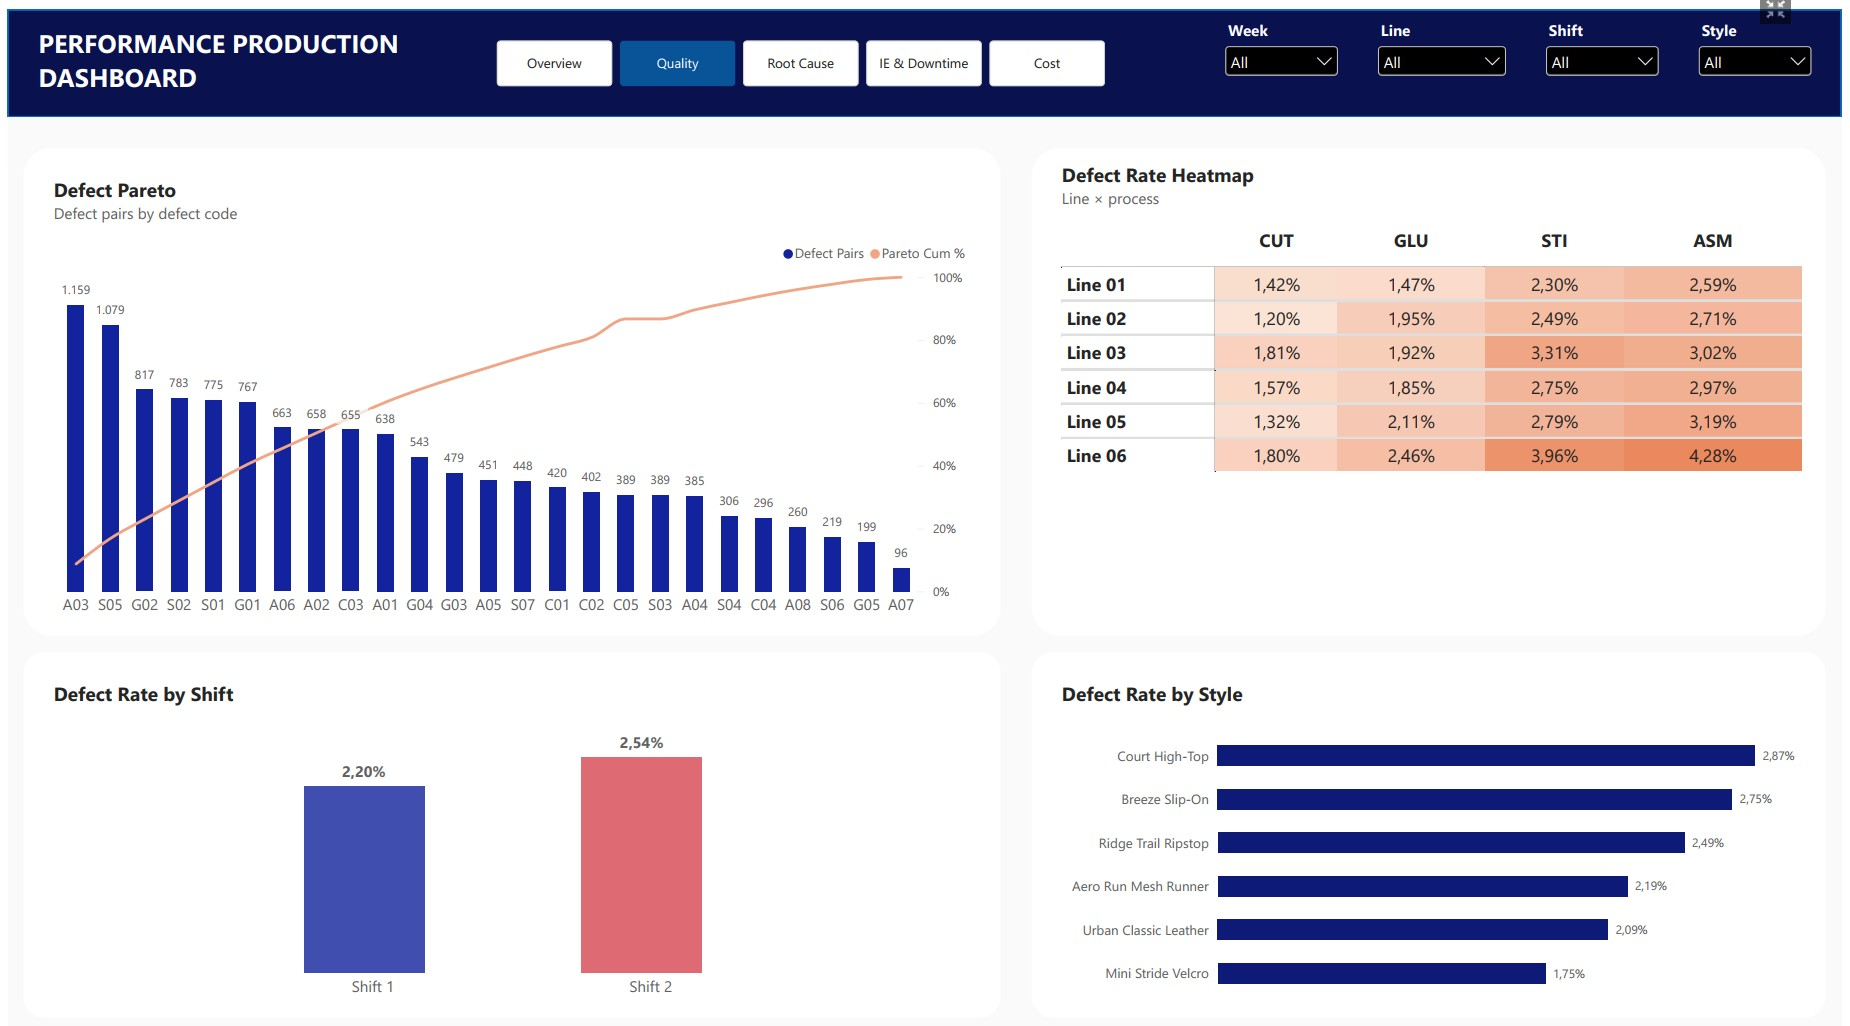

Layout of this report page (visuals, bound fields, positions):
{"tool":"powerbi","page":{"name":"Quality","canvas":[1920,1080],"ordinal":1},"visuals":[{"type":"shape","box":[0,0,1920,112],"z":0},{"type":"shape","box":[16,144,1024,512],"z":1000},{"type":"shape","box":[1072,144,832,512],"z":2000},{"type":"pivotTable","title":"Defect Rate Heatmap","fields":{"Columns":["Dim_Process.Process_ID"],"Rows":["Dim_Line.Line_Name"],"Values":["_Measures.Defect Rate"]},"box":[1088,144,816,400],"z":3000},{"type":"shape","box":[16,672,1024,384],"z":4000},{"type":"shape","box":[1072,672,832,384],"z":5000},{"type":"clusteredBarChart","title":"Defect Rate by Style","fields":{"Category":["Dim_Style.Style_Name"],"Y":["_Measures.Defect Rate"]},"box":[1088,688,800,368],"z":6000},{"type":"columnChart","title":"Defect Rate by Shift","fields":{"Category":["Fact_Production.Shift"],"Y":["_Measures.Defect Rate"]},"box":[32,688,992,368],"z":7000},{"type":"textbox","box":[32,16,480,80],"z":8000},{"type":"pageNavigator","box":[512,32,640,48],"z":9000},{"type":"slicer","fields":{"Values":["Dim_Calendar.ISO_Week"]},"box":[1270.4,9.6,128,80],"z":10000},{"type":"slicer","fields":{"Values":["Dim_Line.Line_Name"]},"box":[1430.4,9.6,144,80],"z":11000},{"type":"slicer","fields":{"Values":["Fact_Production.Shift"]},"box":[1606.4,9.6,128,80],"z":12000},{"type":"slicer","fields":{"Values":["Fact_Production.Style_ID"]},"box":[1766.4,9.6,128,80],"z":13000},{"type":"lineStackedColumnComboChart","title":"Defect Pareto","fields":{"Category":["Fact_Defects.Defect_Code"],"Y":["_Measures.Defect Pairs"],"Y2":["_Measures.Pareto Cum %"]},"box":[32,160,992,496],"z":14000}]}

Visuals, with their boxes in screenshot pixels (x1, y1, x2, y2), scaled from the page's 1920x1080 canvas onto the 1850x1026 screenshot:
shape: 0 0 1849 106
shape: 15 137 1002 623
shape: 1033 137 1835 623
"Defect Rate Heatmap" pivotTable: 1048 137 1835 517
shape: 15 638 1002 1003
shape: 1033 638 1835 1003
"Defect Rate by Style" clusteredBarChart: 1048 654 1819 1003
"Defect Rate by Shift" columnChart: 31 654 987 1003
textbox: 31 15 493 91
pageNavigator: 493 30 1110 76
slicer - Dim_Calendar.ISO_Week: 1224 9 1347 85
slicer - Dim_Line.Line_Name: 1378 9 1517 85
slicer - Fact_Production.Shift: 1548 9 1671 85
slicer - Fact_Production.Style_ID: 1702 9 1825 85
"Defect Pareto" lineStackedColumnComboChart: 31 152 987 623
